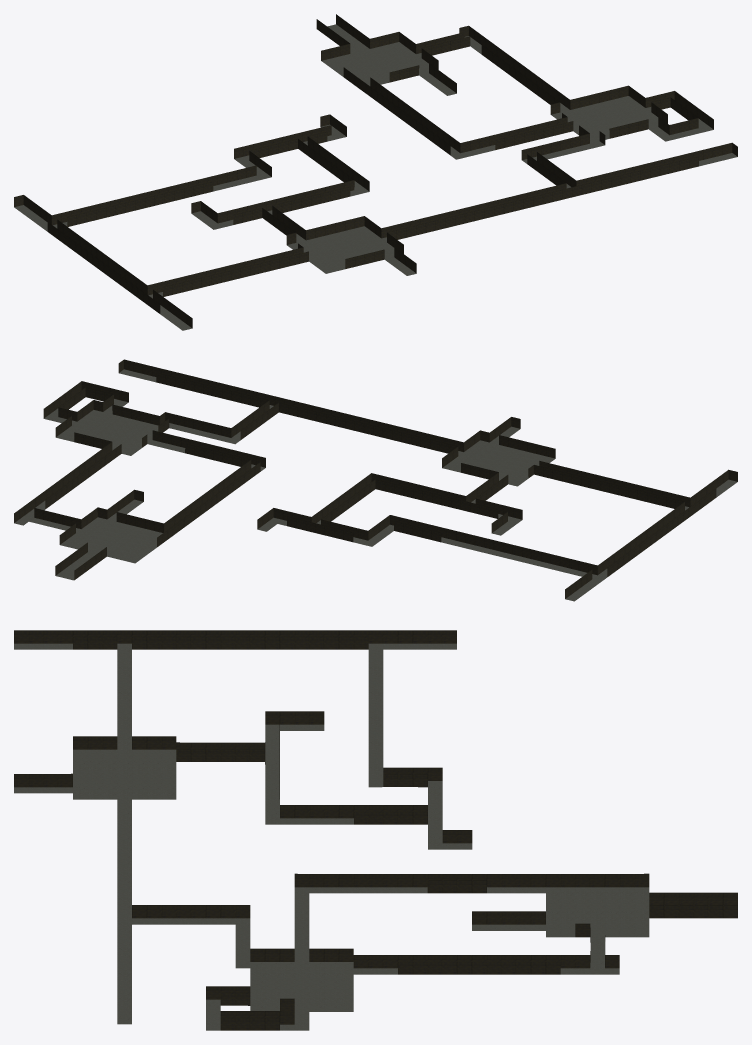
File: jigsaw maze.fbx
3 views of the same model, one above another, from view 1: azimuth 30°, elevation 25°; view 2: azimuth 150°, elevation 25°; view 3: azimuth 270°, elevation 25° (orthographic). The views are drawn at different scales.
Parts seen in each view (by area): view 1: Combined Floor and Walls.038, Combined Floor and Walls.016, Combined Floor and Walls.020, Combined Floor and Walls.075, Combined Floor and Walls.013, Combined Floor and Walls.005, Combined Floor and Walls.014, Combined Floor and Walls.063, Combined Floor and Walls.022, Combined Floor and Walls.019, Combined Floor and Walls.029, Combined Floor and Walls.012 (+32 smaller); view 2: Combined Floor and Walls.038, Combined Floor and Walls.016, Combined Floor and Walls.020, Combined Floor and Walls.075, Combined Floor and Walls.014, Combined Floor and Walls.005, Combined Floor and Walls.013, Combined Floor and Walls.065, Combined Floor and Walls.037, Combined Floor and Walls.022, Combined Floor and Walls.019, Combined Floor and Walls.029 (+47 smaller); view 3: Combined Floor and Walls.075, Combined Floor and Walls.005, Combined Floor and Walls.037, Combined Floor and Walls.006, Combined Floor and Walls.010, Combined Floor and Walls.019, Combined Floor and Walls.023, Combined Floor and Walls.047, Combined Floor and Walls.017, Combined Floor and Walls.021, Combined Floor and Walls.039, Combined Floor and Walls.053 (+31 smaller).
Boxes of the visible parts, box(x1,y1,x2,y2) form: Combined Floor and Walls.038: box(521, 131, 605, 163); Combined Floor and Walls.016: box(253, 127, 327, 157); Combined Floor and Walls.020: box(276, 182, 350, 212); Combined Floor and Walls.075: box(316, 14, 369, 53); Combined Floor and Walls.013: box(149, 177, 213, 205); Combined Floor and Walls.005: box(47, 219, 102, 264); Combined Floor and Walls.014: box(208, 163, 271, 191); Combined Floor and Walls.063: box(570, 90, 619, 118); Combined Floor and Walls.022: box(227, 199, 281, 224); Combined Floor and Walls.019: box(326, 157, 369, 196); Combined Floor and Walls.029: box(430, 204, 484, 230); Combined Floor and Walls.012: box(100, 191, 154, 217); Combined Floor and Walls.038: box(159, 412, 240, 444); Combined Floor and Walls.016: box(287, 512, 358, 542); Combined Floor and Walls.020: box(385, 477, 456, 507); Combined Floor and Walls.075: box(55, 542, 106, 580); Combined Floor and Walls.014: box(384, 515, 446, 542); Combined Floor and Walls.005: box(597, 534, 650, 577); Combined Floor and Walls.013: box(441, 528, 503, 555); Combined Floor and Walls.065: box(102, 404, 150, 431); Combined Floor and Walls.037: box(231, 400, 278, 440); Combined Floor and Walls.022: box(451, 492, 503, 518); Combined Floor and Walls.019: box(339, 473, 390, 508); Combined Floor and Walls.029: box(364, 419, 416, 444); Combined Floor and Walls.075: box(649, 892, 737, 918); Combined Floor and Walls.005: box(250, 630, 368, 649); Combined Floor and Walls.037: box(132, 905, 235, 924); Combined Floor and Walls.006: box(368, 630, 456, 655); Combined Floor and Walls.010: box(161, 630, 250, 649); Combined Floor and Walls.019: box(265, 805, 353, 824); Combined Floor and Walls.023: box(176, 742, 250, 761); Combined Floor and Walls.047: box(472, 911, 545, 930); Combined Floor and Walls.017: box(383, 767, 442, 793); Combined Floor and Walls.021: box(265, 711, 324, 736); Combined Floor and Walls.039: box(220, 1011, 279, 1030); Combined Floor and Walls.053: box(309, 874, 368, 893).
Size of the model in its own units: 21249 by 343 by 16790.
